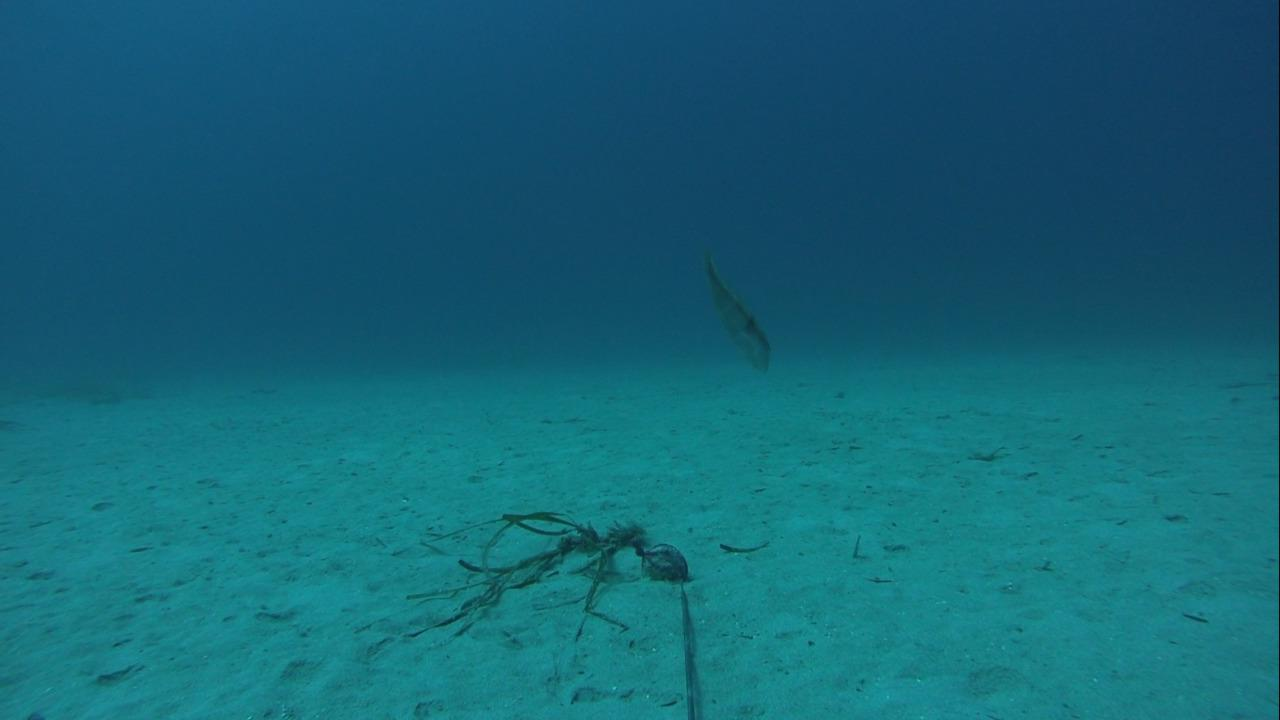raor: (698, 246, 775, 371)
